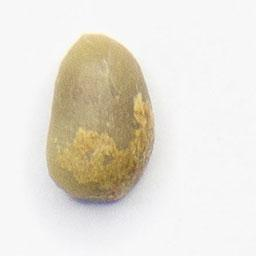longberry: (41, 28, 161, 208)
